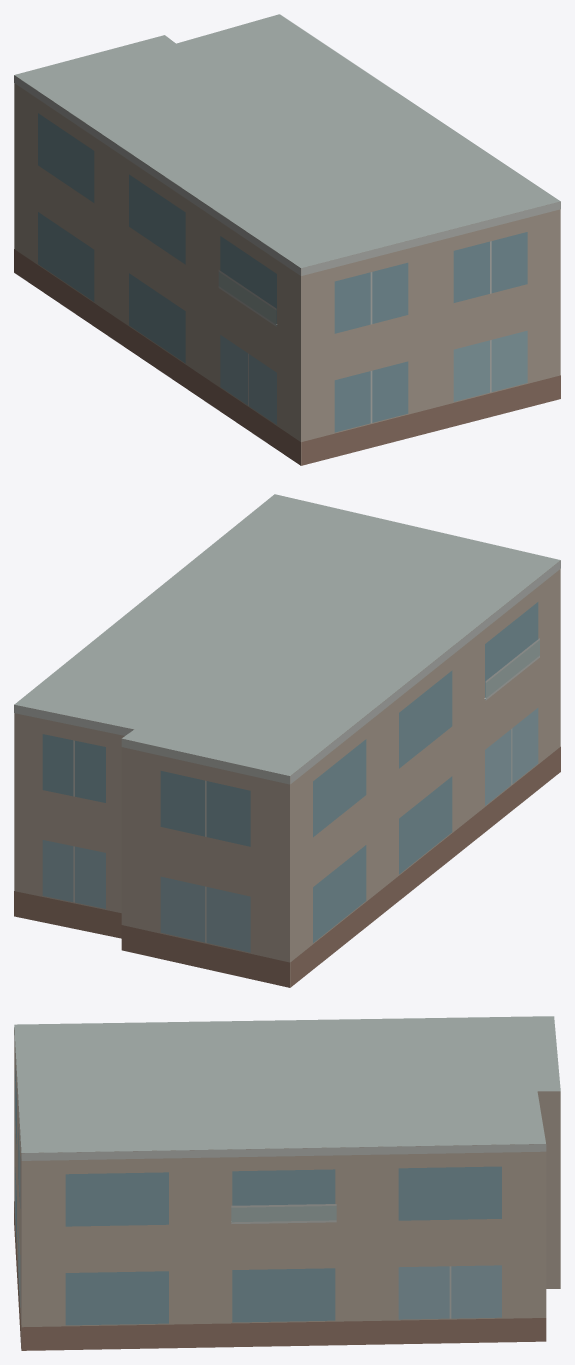
The model's file is survey-upis-32715276.glb.
3 renders of one model, top to bottom at view 1: azimuth 30°, elevation 25°; view 2: azimuth 150°, elevation 25°; view 3: azimuth 270°, elevation 25°, orthographic. The views are drawn at different scales.
Visible parts, largest first — view 1: survey-upis-32715276.tmp; view 2: survey-upis-32715276.tmp; view 3: survey-upis-32715276.tmp.
Part boxes in pixels (box(x1,y1,x2,y2)): survey-upis-32715276.tmp: box(14, 14, 560, 465); survey-upis-32715276.tmp: box(14, 494, 560, 987); survey-upis-32715276.tmp: box(14, 1016, 560, 1350).
Bounding box in the file's own units: 9.08 × 6.1 × 15.3.
